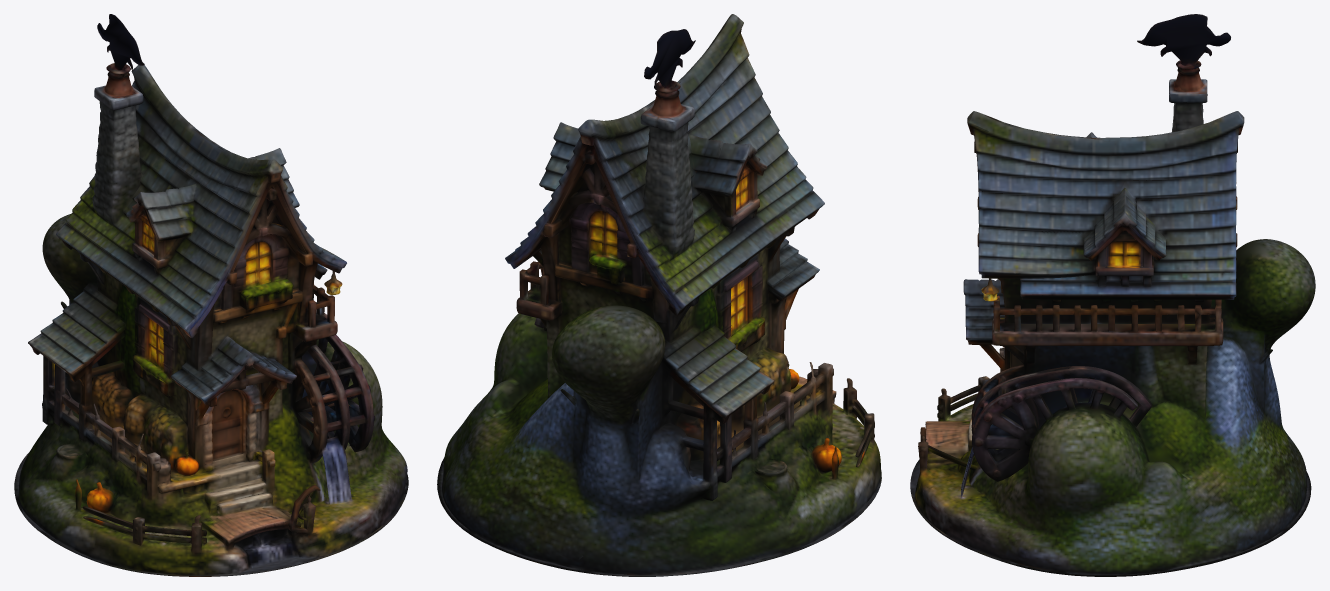
The model's file is witch-cottage.glb.
3 renders of one model, left to right at view 1: azimuth 30°, elevation 25°; view 2: azimuth 150°, elevation 25°; view 3: azimuth 270°, elevation 25°, orthographic. The views are drawn at different scales.
Visible parts, largest first — view 1: node_0; view 2: node_0; view 3: node_0.
Part boxes in pixels (box(x1,y1,x2,y2)): node_0: box(14, 14, 408, 576); node_0: box(437, 14, 881, 576); node_0: box(910, 14, 1315, 576).
Size of the model in its own units: 0.731 by 0.9187 by 0.7442.
1 material, 1 textured.
